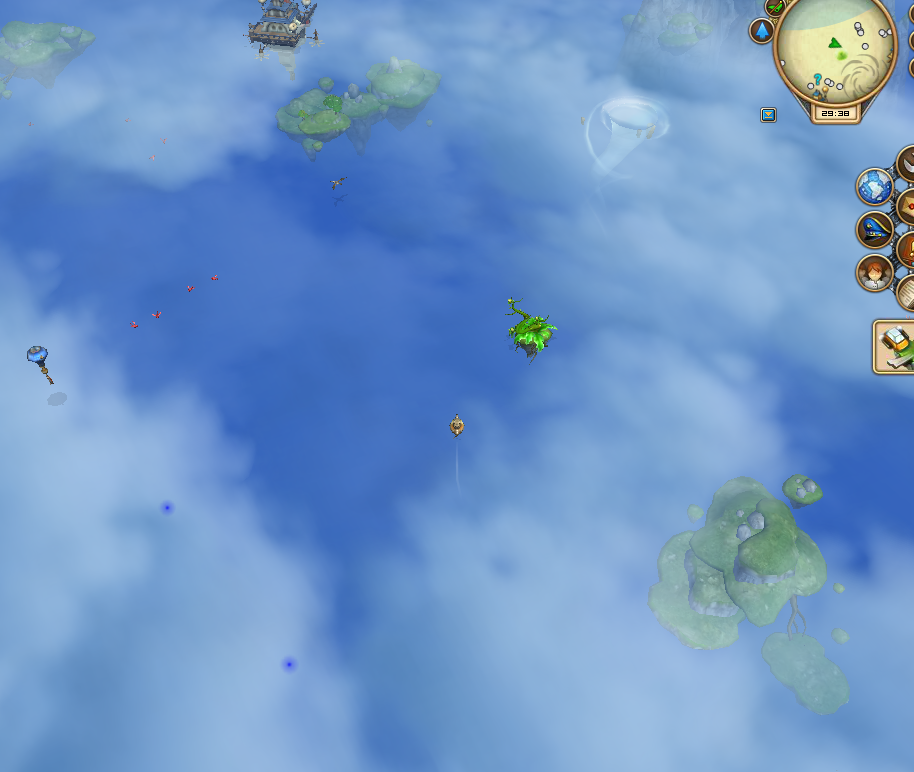dandelion-empty: (496, 288, 562, 362)
